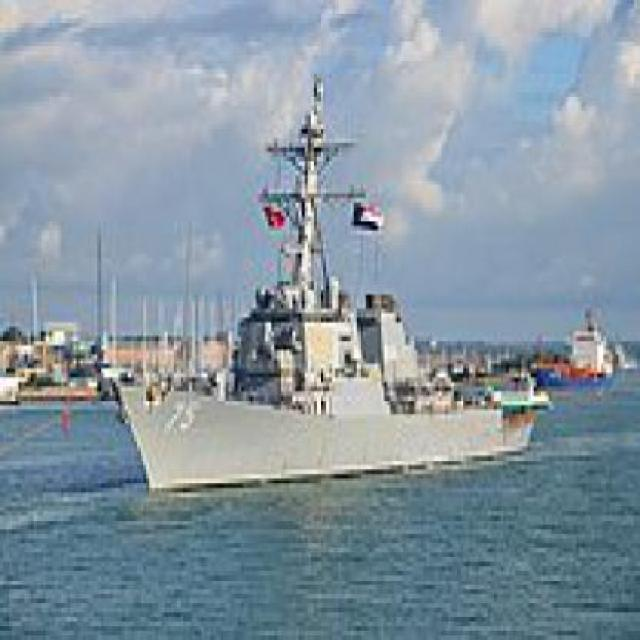warship2: (108, 42, 565, 508)
